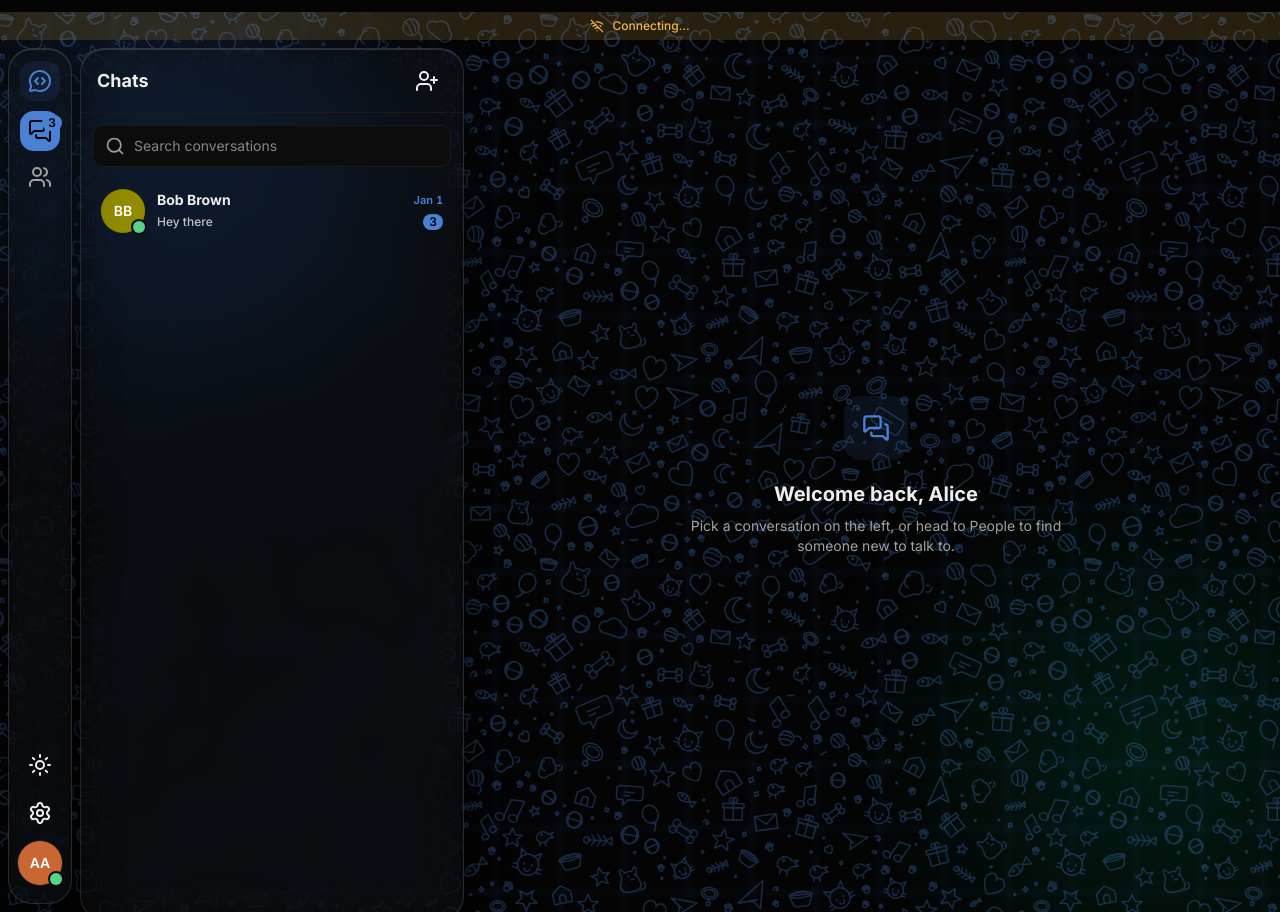
it: overlay stacking › opens the account menu above the sidebar rather than behind it
Click the button with aria-label "account menu".
click(40, 866)  # box [18,841,62,891]
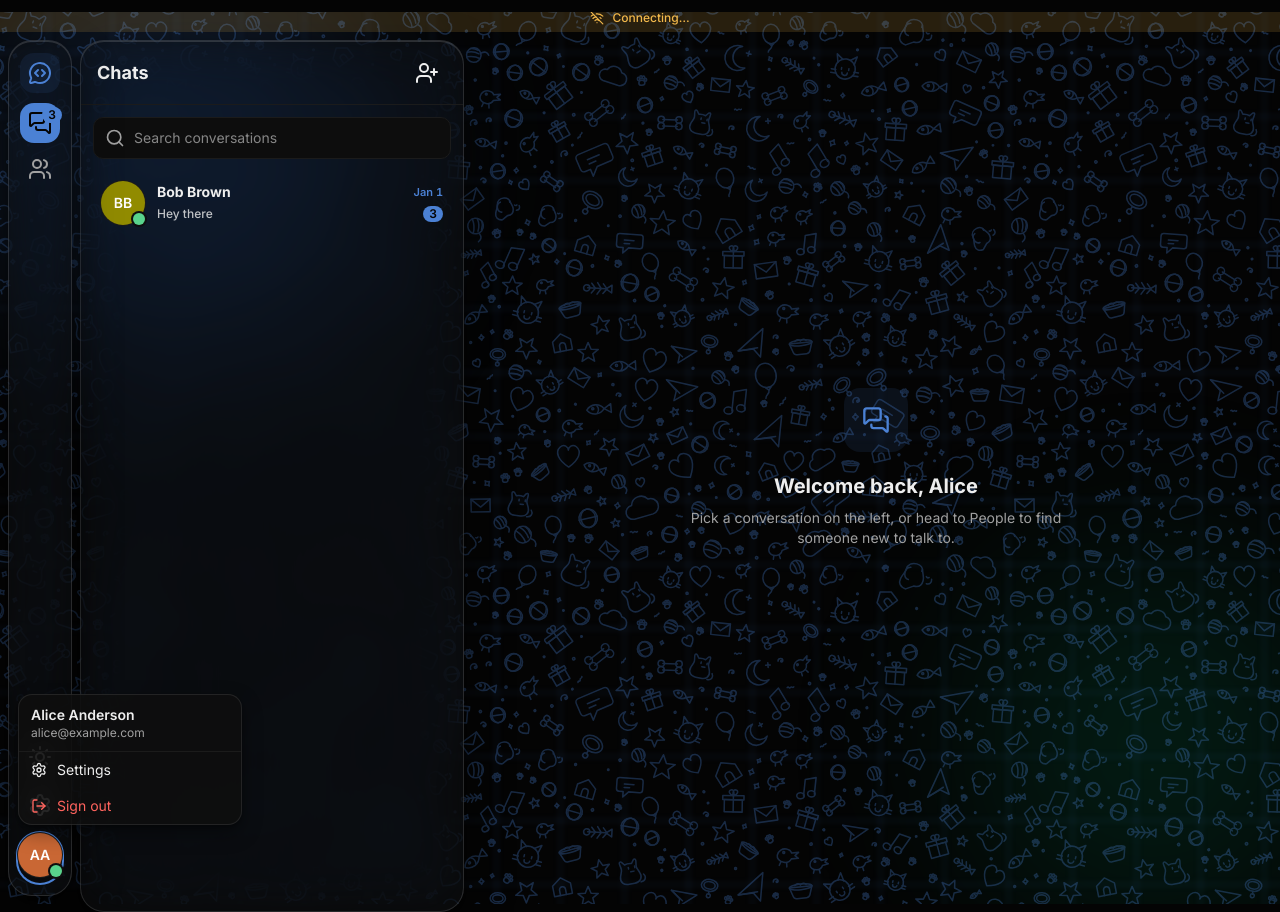
Check: the navigation bar is shown, box [8,40,72,896]
Check: the menu item "Settings" is shown, box [19,752,241,788]
Check: the menu item "Sign out" is shown, box [19,788,241,824]
